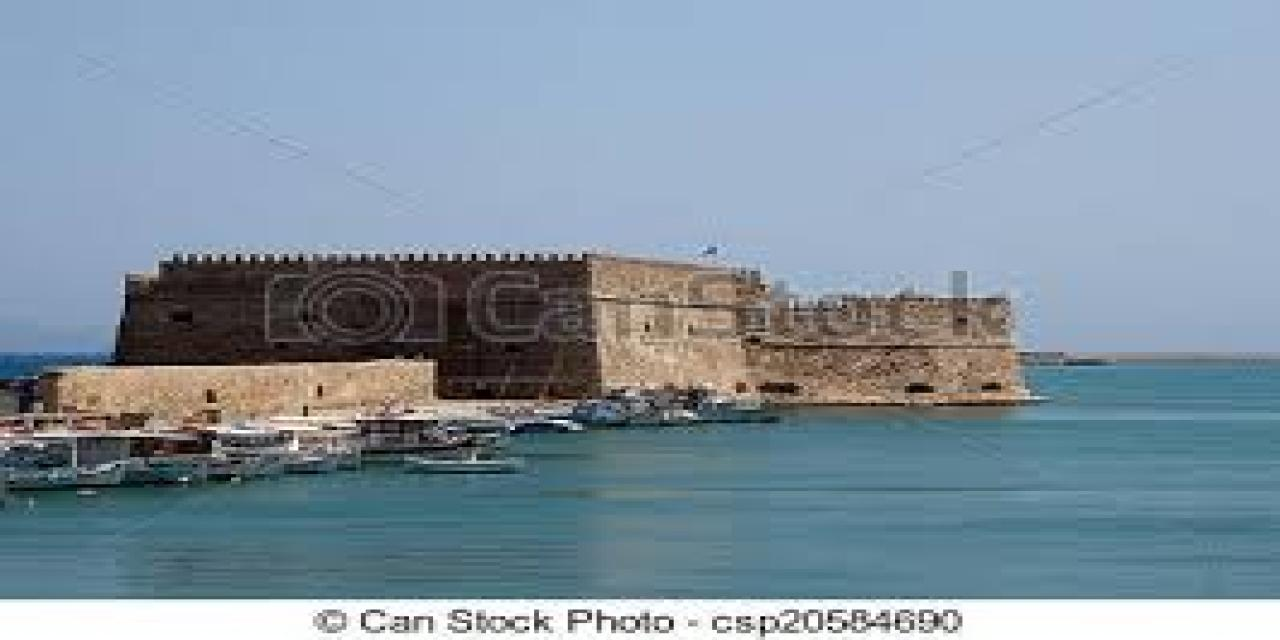Kules: (118, 250, 1051, 414)
